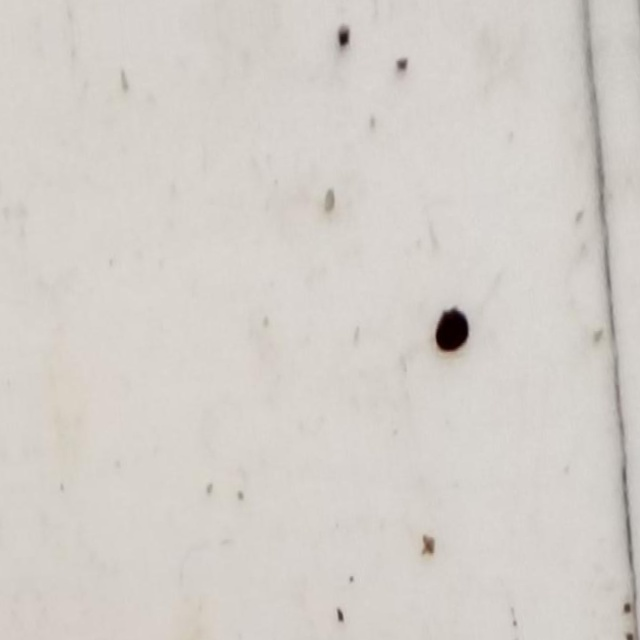varroa: (433, 304, 474, 354)
